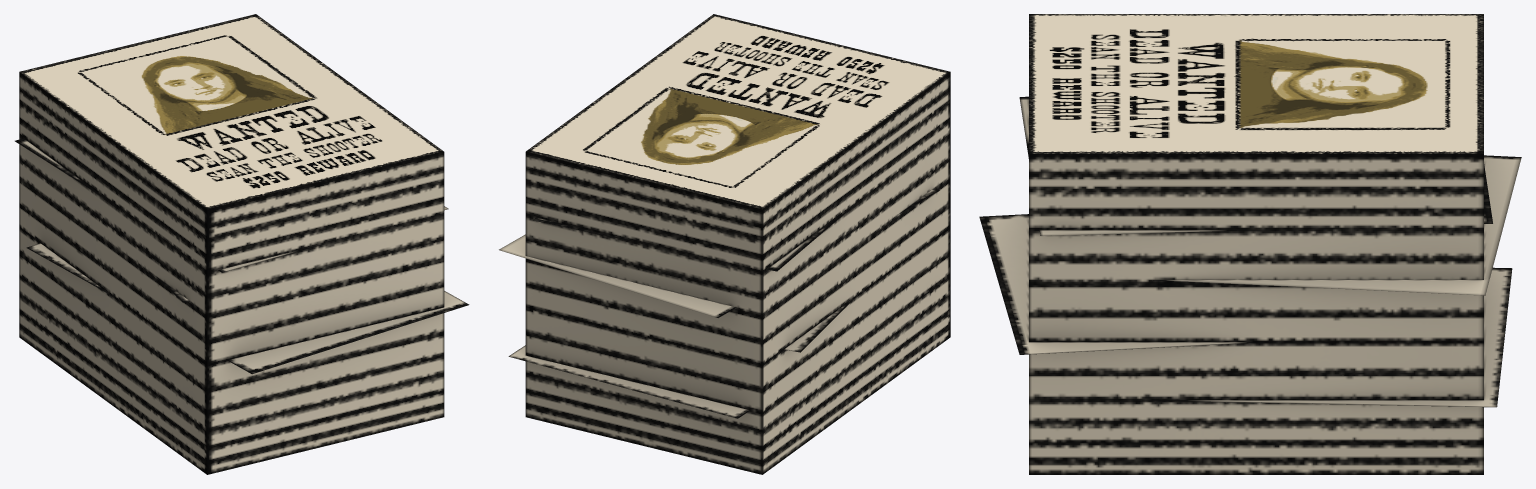
Rendered from paper_stack.fbx.
The picture shows the model from 3 angles, left to right: view 1: azimuth 30°, elevation 25°; view 2: azimuth 150°, elevation 25°; view 3: azimuth 270°, elevation 25°; orthographic projection. The views are drawn at different scales.
Parts seen in each view (by area): view 1: stack.001; view 2: stack.001; view 3: stack.001.
Part boxes in pixels (left/top/right/bottom): stack.001: left=15, top=14, right=469, bottom=474; stack.001: left=499, top=14, right=950, bottom=474; stack.001: left=979, top=14, right=1521, bottom=474.
Bounding box in the file's own units: 171 × 155 × 238.
